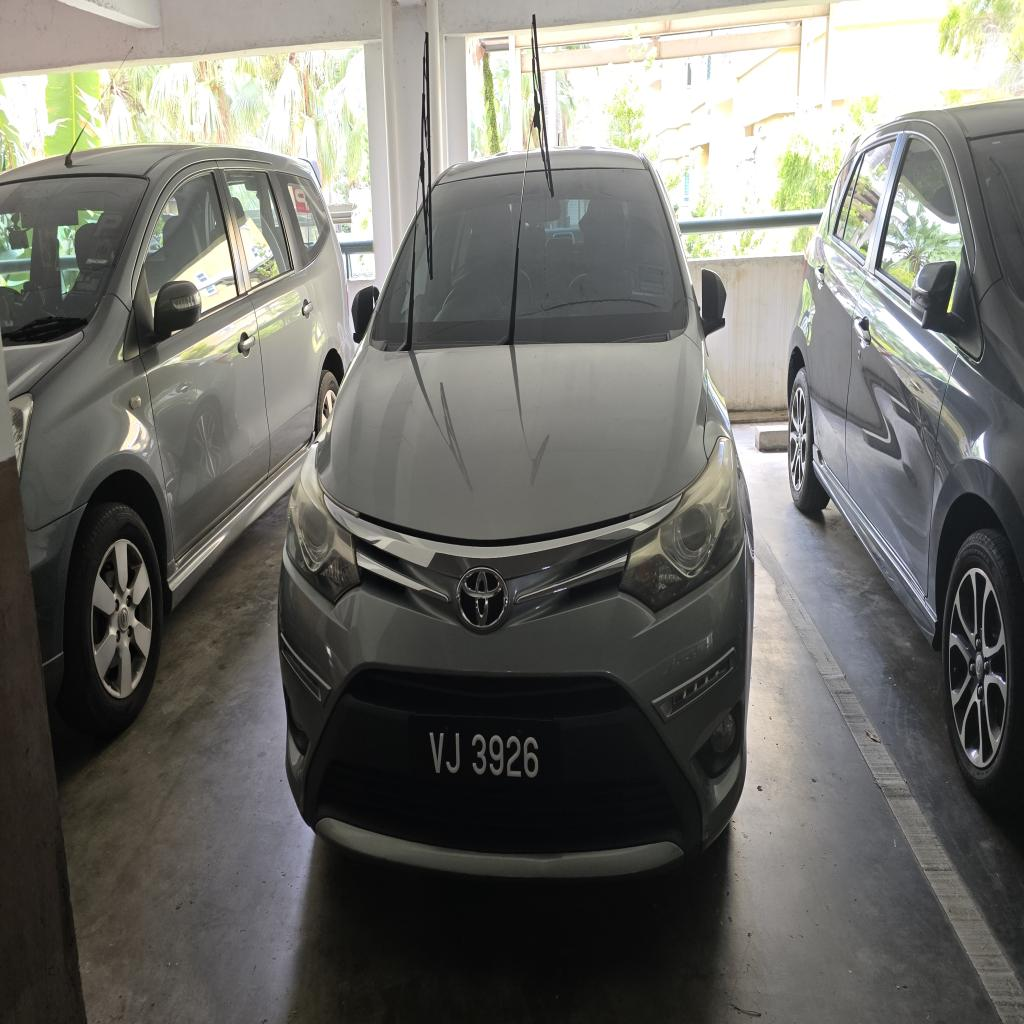car: (280, 150, 753, 876)
car plate: (410, 717, 557, 780)
